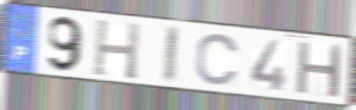4: (248, 37, 289, 92)
9: (45, 15, 86, 73)
C: (194, 31, 242, 87)
H: (91, 17, 143, 82), (294, 39, 346, 100)
I: (162, 24, 182, 85)
